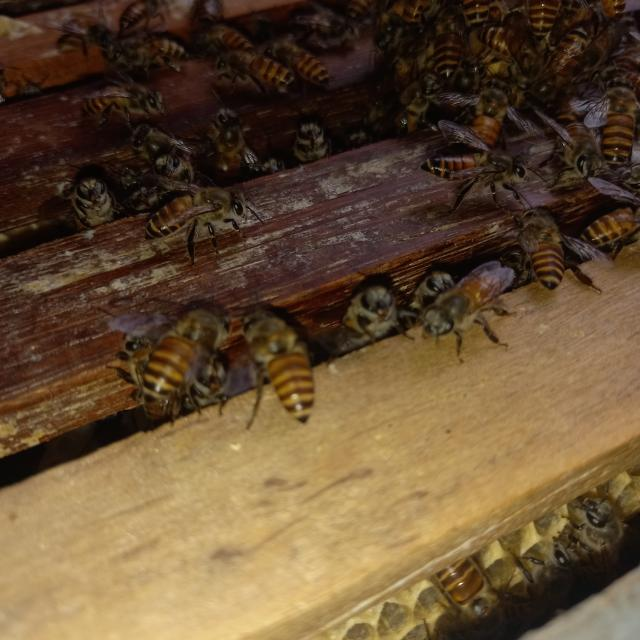honeybee: (125, 290, 228, 426), (238, 302, 324, 421), (126, 182, 250, 256), (419, 127, 526, 211), (422, 266, 508, 351), (432, 72, 513, 160), (550, 487, 626, 563), (503, 208, 571, 292), (426, 553, 494, 630), (131, 122, 206, 188), (210, 39, 291, 100), (534, 116, 591, 200), (342, 289, 412, 356), (35, 6, 122, 59), (212, 105, 270, 181), (74, 85, 170, 126), (595, 84, 640, 169), (542, 17, 588, 98), (101, 29, 180, 75), (473, 24, 540, 77), (124, 151, 190, 204), (287, 6, 362, 52), (582, 204, 640, 262), (265, 39, 328, 90), (62, 172, 121, 222), (286, 108, 336, 163), (200, 22, 257, 67), (596, 47, 640, 102), (433, 1, 464, 77), (389, 86, 431, 137), (0, 61, 40, 104), (419, 257, 453, 306), (374, 0, 407, 50), (115, 0, 163, 31), (518, 0, 554, 41), (404, 0, 434, 42), (191, 0, 228, 32), (456, 0, 490, 33), (348, 0, 373, 24)
